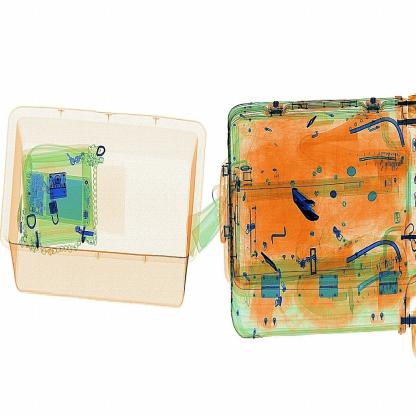pliers: (283, 176, 335, 233)
